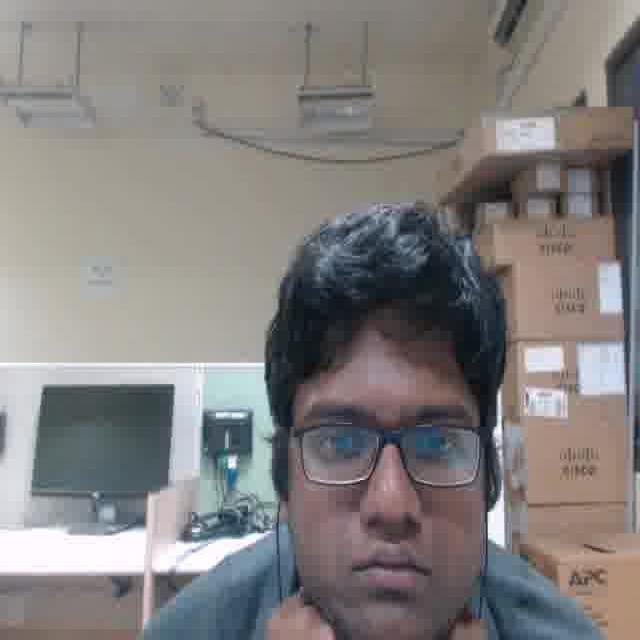Engaged: (286, 322, 481, 640)
